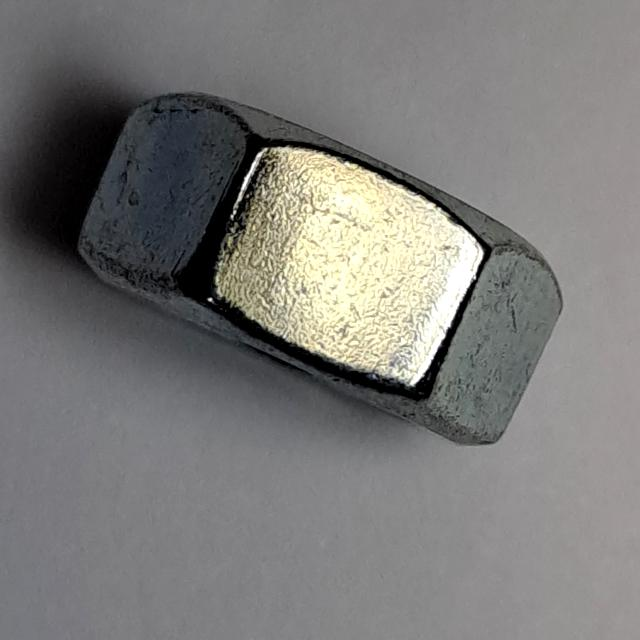Side_Excellent: (70, 79, 581, 463)
